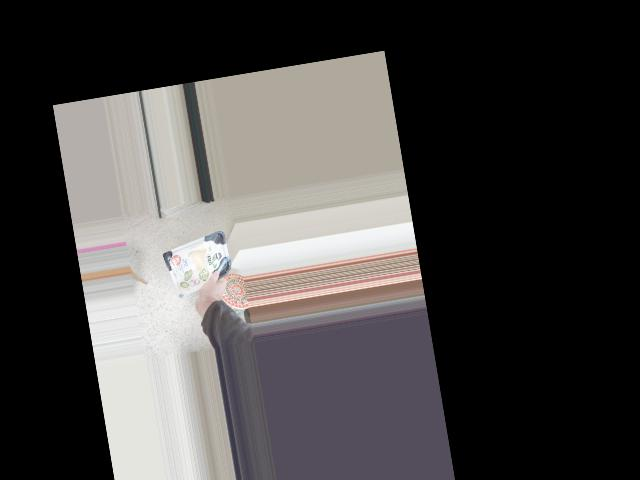cheese: (160, 234, 238, 293)
